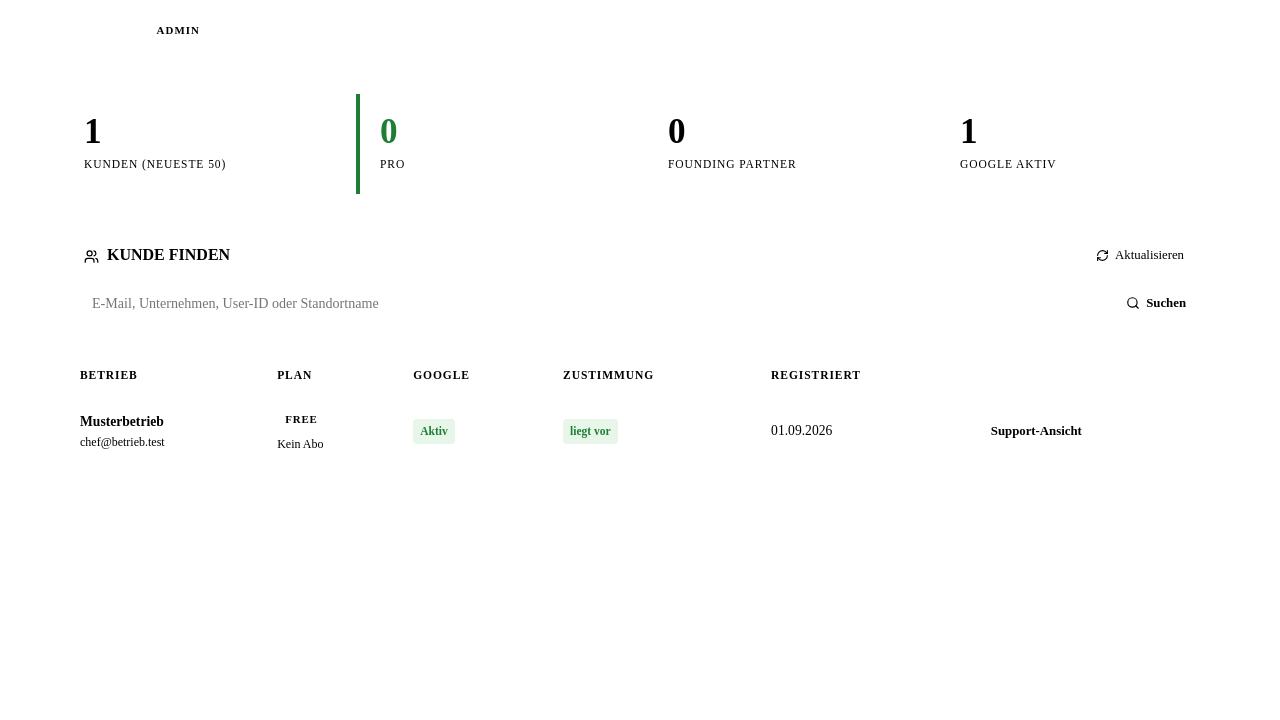
Test: Support-Ansicht (§6, §30) › macht Zero-Locations verständlich (§9, §38)
Step 1. Click the button "Support-Ansicht" → (1036, 431), box [977,414,1096,449]
(page scrolled)
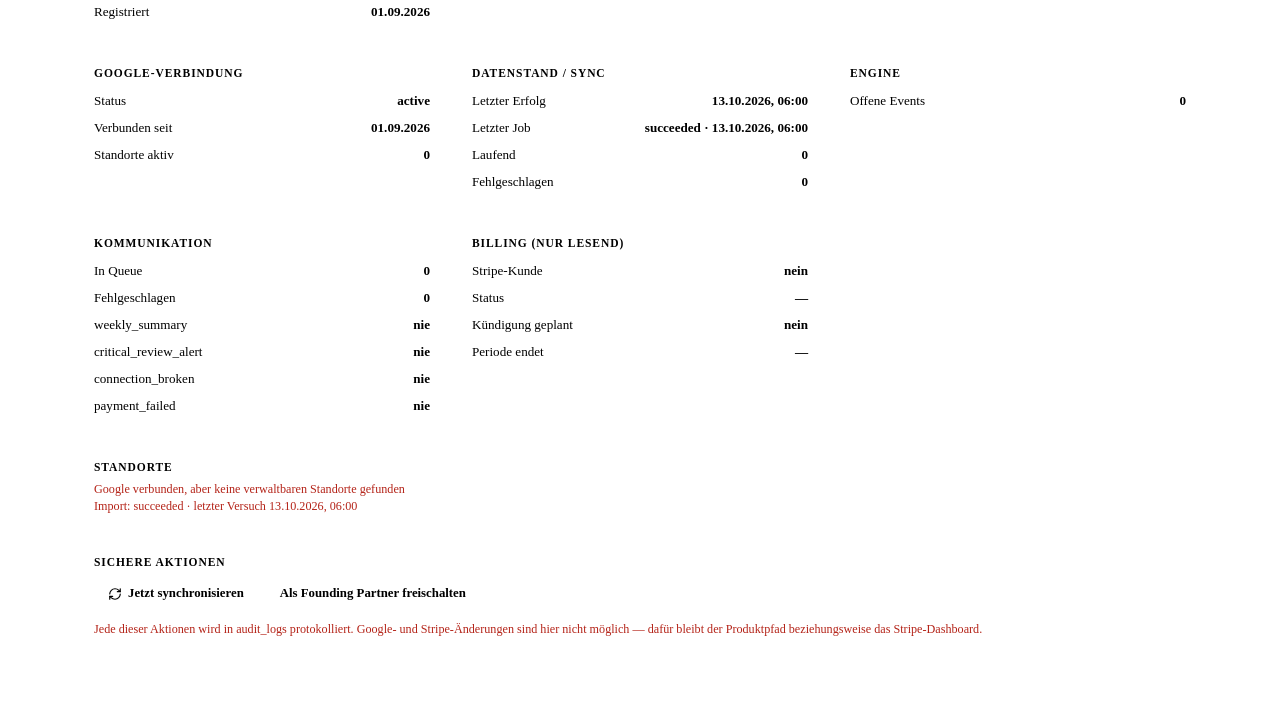
Now the text "Google verbunden, aber keine verwaltbaren Standorte gefunden" is shown, box [94,482,405,496]
Now the text "Import: succeeded" is shown, box [94,482,405,513]
